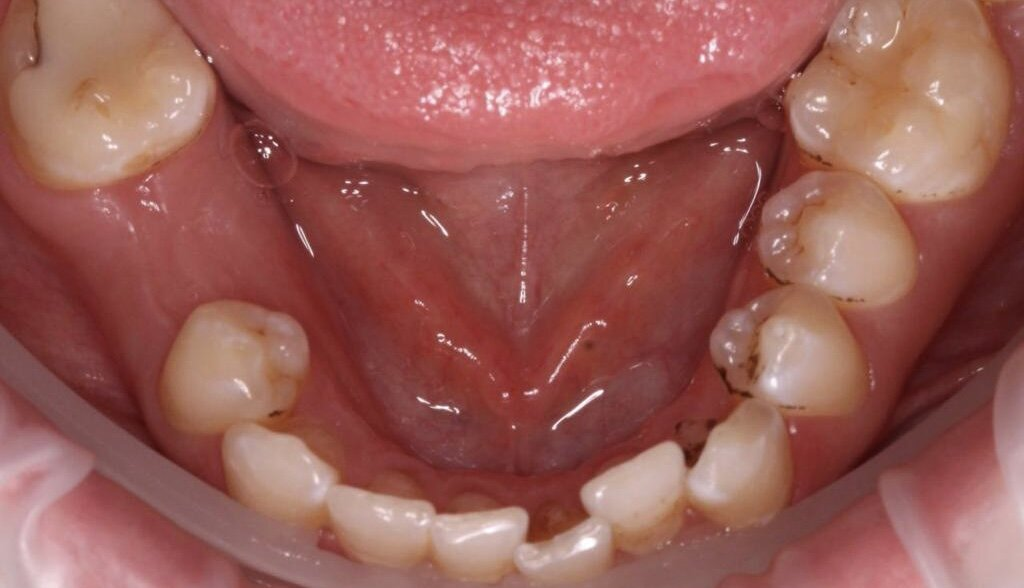LL1BC_decay: (710, 285, 866, 408)
LL1M_decay: (790, 10, 1010, 202)
LL2BC_decay: (760, 170, 915, 301)
LLCI_healthy: (526, 526, 611, 576)
LLC_healthy: (712, 427, 789, 525)
LLLI_healthy: (582, 447, 684, 530)
LR1BC_healthy: (166, 300, 306, 408)
LR1M_healthy: (45, 10, 206, 171)
LR2BC_decay: (98, 186, 274, 299)
LRCI_healthy: (430, 498, 524, 577)
LRC_healthy: (225, 421, 335, 511)
LRLI_healthy: (329, 483, 429, 565)
